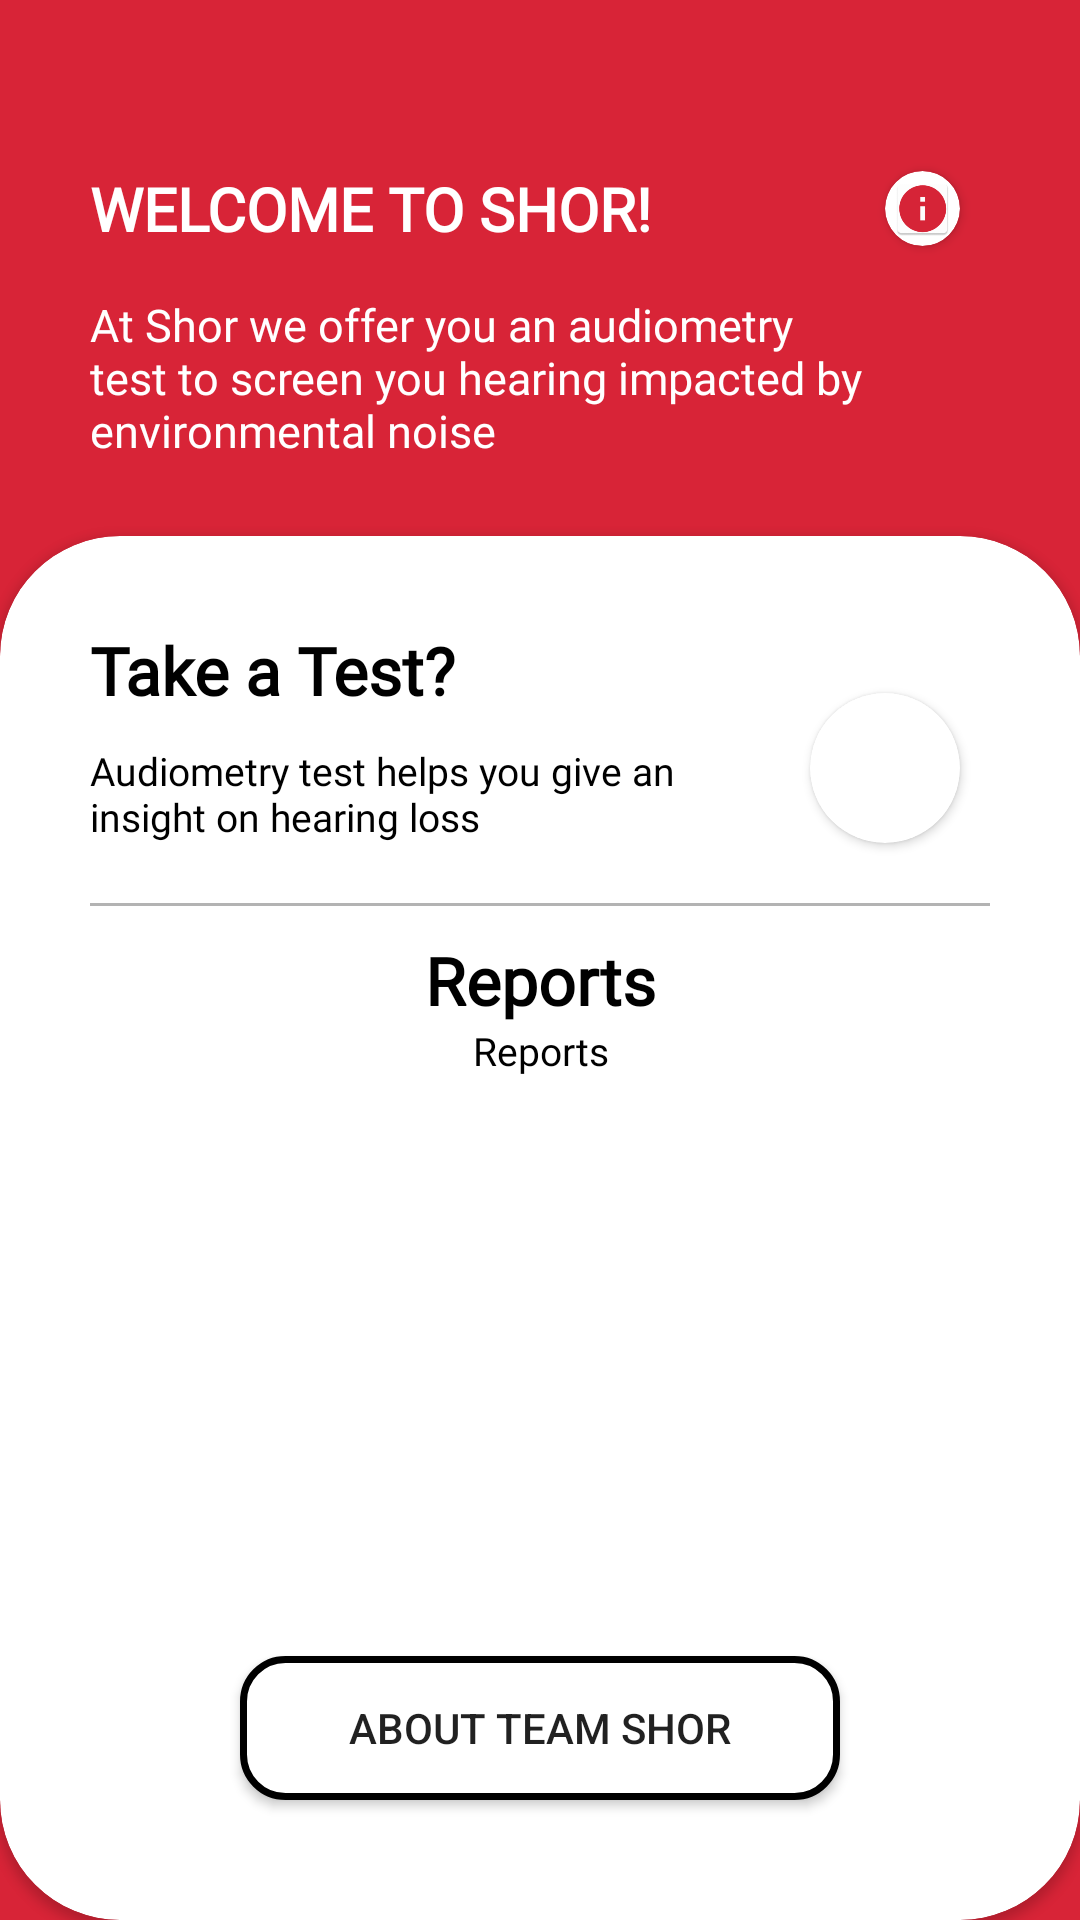

Point at icon controls on the screen. Image size 1080w x 1920h, points as [x,y].
info: [922,208]
